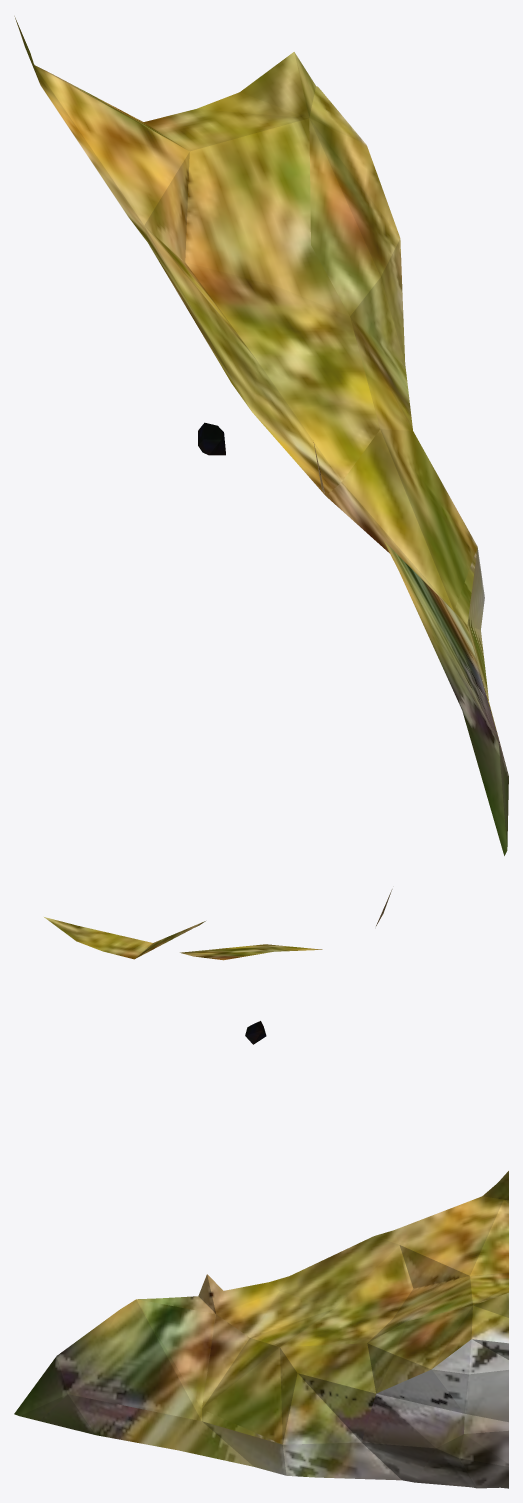
The picture shows the model from 3 angles, top to bottom: view 1: azimuth 30°, elevation 25°; view 2: azimuth 150°, elevation 25°; view 3: azimuth 270°, elevation 25°; orthographic projection. The views are drawn at different scales.
Bounding box in the file's own units: 0.4952 × 0.694 × 1.28.
Materials: 1 (1 with a texture image).
